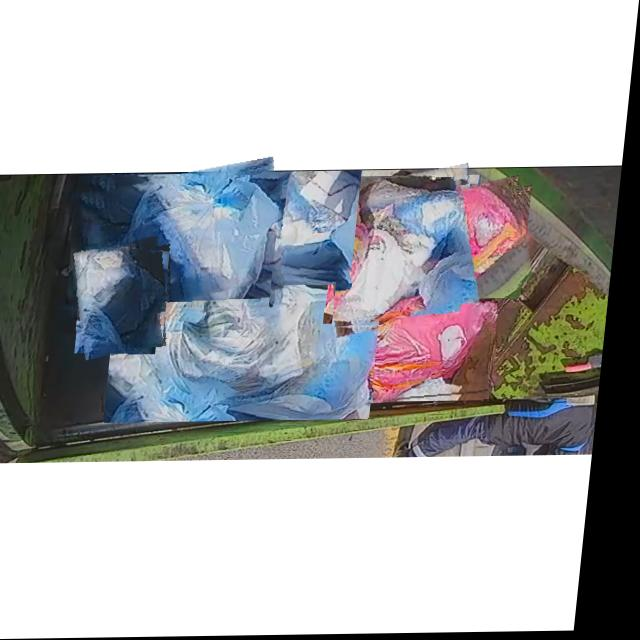other_trashbag: (120, 271, 385, 420), (82, 177, 284, 317), (341, 180, 469, 326), (365, 298, 501, 402), (432, 186, 528, 305), (259, 172, 364, 272), (83, 247, 171, 347)
